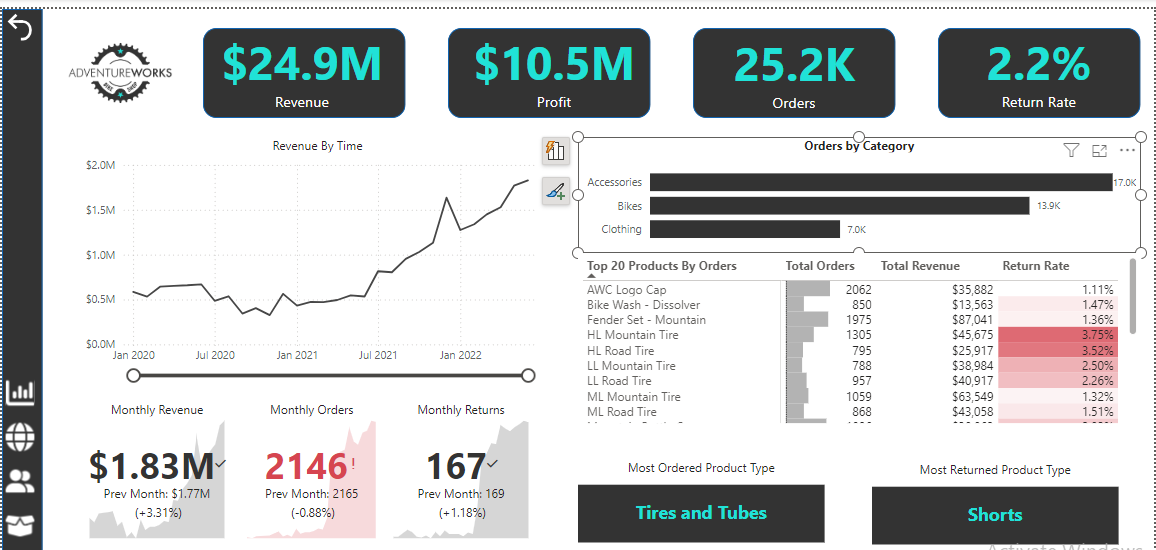

This screenshot's page, from the dashboard's own definition file:
{"tool":"powerbi","page":{"name":"Executive View","canvas":[1280,720],"ordinal":0},"visuals":[{"type":"shape","title":"Left Nav Bar","box":[0,0,45,618.8],"z":0},{"type":"shape","box":[223.8,21.2,225,100],"z":0,"group":"g1"},{"type":"actionButton","box":[0,406.2,45,40],"z":0,"group":"g2"},{"type":"image","title":"AW logo","box":[56.2,21.2,150,100],"z":1000},{"type":"shape","box":[495.9,21.2,225,100],"z":1000,"group":"g1"},{"type":"actionButton","box":[0,454.6,45,40],"z":1000,"group":"g2"},{"type":"group","id":"g1","title":"KPI cards","box":[209.1,16.9,1055.9,104.3],"z":2000},{"type":"shape","box":[768,21.2,225,100],"z":2000,"group":"g1"},{"type":"actionButton","box":[0,504.2,45,40],"z":2000,"group":"g2"},{"type":"card","title":"Profit Card","fields":{"Values":["Measure Table.Total Profit"]},"box":[488.8,16.2,248.8,103.8],"z":3000},{"type":"card","title":"Revenue card","fields":{"Values":["Measure Table.Total Revenue"]},"box":[209.1,16.9,248.8,103.8],"z":3000,"group":"g1"},{"type":"actionButton","box":[0,553.8,45,40],"z":3000,"group":"g2"},{"type":"card","title":"Return Rate Card","fields":{"Values":["Measure Table.Return Rate"]},"box":[1027.5,16.2,248.8,103.8],"z":4000},{"type":"shape","box":[1040,21.2,225,100],"z":4000,"group":"g1"},{"type":"card","title":"Order card","fields":{"Values":["Measure Table.Total Orders"]},"box":[755,17.5,248.8,103.8],"z":5000},{"type":"lineChart","title":"Revenue By Time","fields":{"Y":["Measure Table.Total Revenue"],"Category":["Calendar Lookup.Year","Calendar Lookup.Start of Month","Calendar Lookup.Start of Week"]},"box":[87.8,142.6,525.6,276.5],"z":6000},{"type":"kpi","title":"Monthly Revenue","fields":{"Indicator":["Measure Table.Total Revenue"],"TrendLine":["Calendar Lookup.Start of Month"],"Goal":["Measure Table.Previous Month Revenue"]},"box":[92.5,435,160,157.5],"z":7000},{"type":"kpi","title":"Monthly Orders","fields":{"TrendLine":["Calendar Lookup.Start of Month"],"Indicator":["Measure Table.Total Orders"],"Goal":["Measure Table.Previous month orders"]},"box":[267.5,435,152.5,157.5],"z":8000},{"type":"kpi","title":"Monthly Returns","fields":{"TrendLine":["Calendar Lookup.Start of Month"],"Indicator":["Measure Table.Total Returns"],"Goal":["Measure Table.Previous Month Returns"]},"box":[430,435,160,157.5],"z":9000},{"type":"clusteredBarChart","title":"Orders by Category","fields":{"Category":["Product Categories Lookup.CategoryName"],"Y":["Measure Table.Total Orders"]},"box":[640,142.5,625,128.8],"z":10000},{"type":"pivotTable","fields":{"Rows":["Product Lookup.ProductName"],"Values":["Measure Table.Total Orders","Measure Table.Total Revenue","Measure Table.Return Rate"]},"box":[640,271.1,625.6,194.4],"z":11000},{"type":"card","fields":{"Values":["Min(Product Subcategories Lookup.SubcategoryName)"]},"box":[640,527.5,273.8,65],"z":12000},{"type":"textbox","box":[640,495,273.8,32.5],"z":13000},{"type":"card","fields":{"Values":["Min(Product Subcategories Lookup.SubcategoryName)"]},"box":[966.2,530,273.8,65],"z":14000},{"type":"textbox","box":[966.2,497.5,273.8,32.5],"z":15000},{"type":"actionButton","title":"Click to remove the filters on page","box":[0,0,45,40],"z":16000},{"type":"group","id":"g2","title":"Page Navigation ","box":[0,406.2,45,187.6],"z":17000}]}

Visuals, with their boxes on the page's 1280x720 design canvas (x1, y1, x2, y2). These are canvas units, not pixel positions in the 1156x550 screenshot, which may show the page scaled, cropped or inside an application window:
"Left Nav Bar" shape: bbox(0, 0, 45, 619)
shape: bbox(224, 21, 449, 121)
actionButton: bbox(0, 406, 45, 446)
"AW logo" image: bbox(56, 21, 206, 121)
shape: bbox(496, 21, 721, 121)
actionButton: bbox(0, 455, 45, 495)
"KPI cards" group: bbox(209, 17, 1265, 121)
shape: bbox(768, 21, 993, 121)
actionButton: bbox(0, 504, 45, 544)
"Profit Card" card: bbox(489, 16, 738, 120)
"Revenue card" card: bbox(209, 17, 458, 121)
actionButton: bbox(0, 554, 45, 594)
"Return Rate Card" card: bbox(1028, 16, 1276, 120)
shape: bbox(1040, 21, 1265, 121)
"Order card" card: bbox(755, 18, 1004, 121)
"Revenue By Time" lineChart: bbox(88, 143, 613, 419)
"Monthly Revenue" kpi: bbox(92, 435, 252, 592)
"Monthly Orders" kpi: bbox(268, 435, 420, 592)
"Monthly Returns" kpi: bbox(430, 435, 590, 592)
"Orders by Category" clusteredBarChart: bbox(640, 142, 1265, 271)
pivotTable - Product Lookup.ProductName x Measure Table.Total Orders: bbox(640, 271, 1266, 466)
card - Min(Product Subcategories Lookup.SubcategoryName): bbox(640, 528, 914, 592)
textbox: bbox(640, 495, 914, 528)
card - Min(Product Subcategories Lookup.SubcategoryName): bbox(966, 530, 1240, 595)
textbox: bbox(966, 498, 1240, 530)
"Click to remove the filters on page" actionButton: bbox(0, 0, 45, 40)
"Page Navigation " group: bbox(0, 406, 45, 594)
